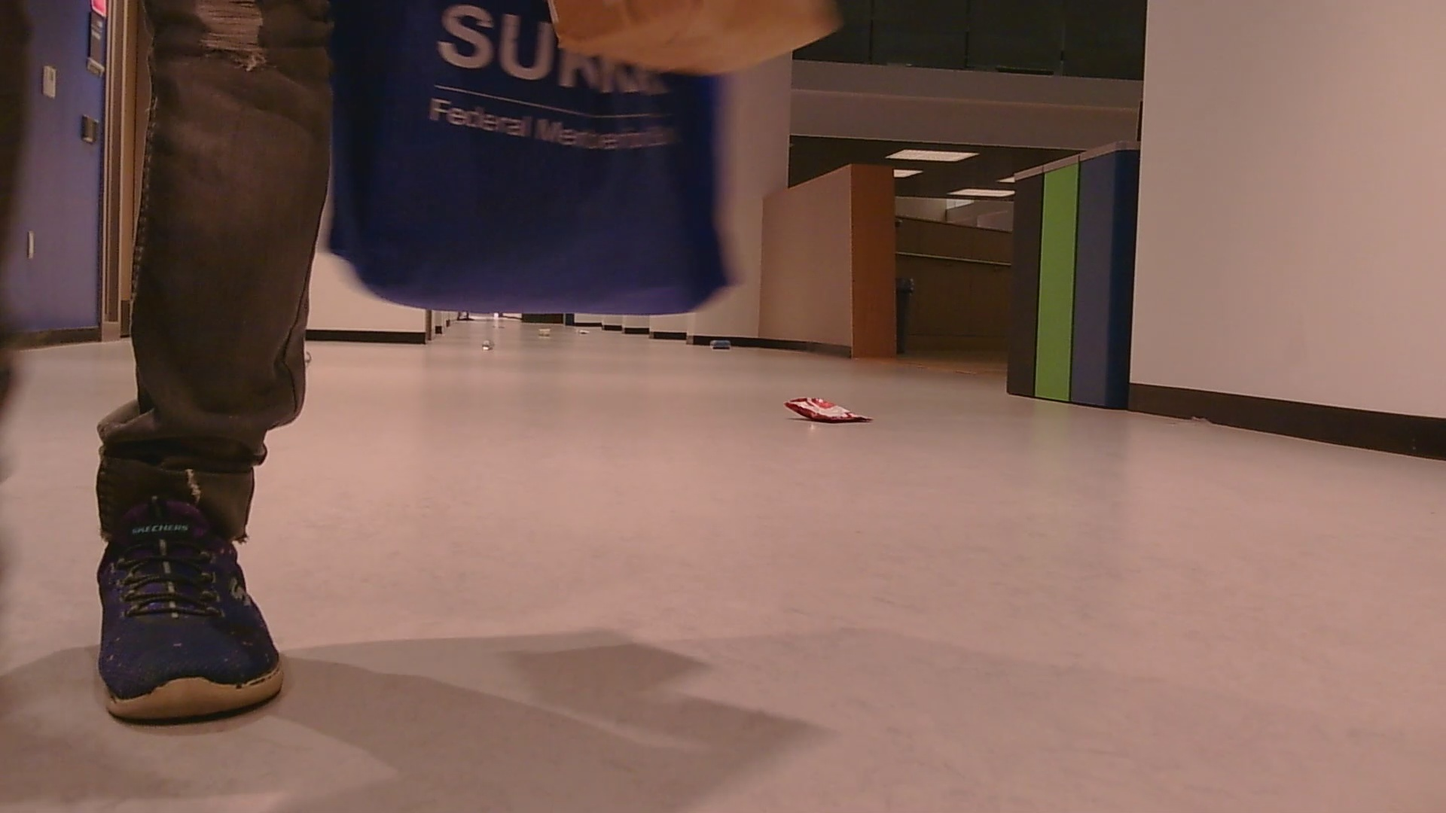carton: (771, 381, 874, 439)
